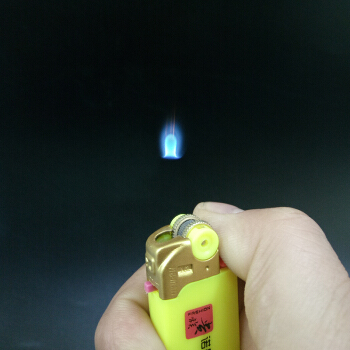fire: (159, 123, 188, 177)
